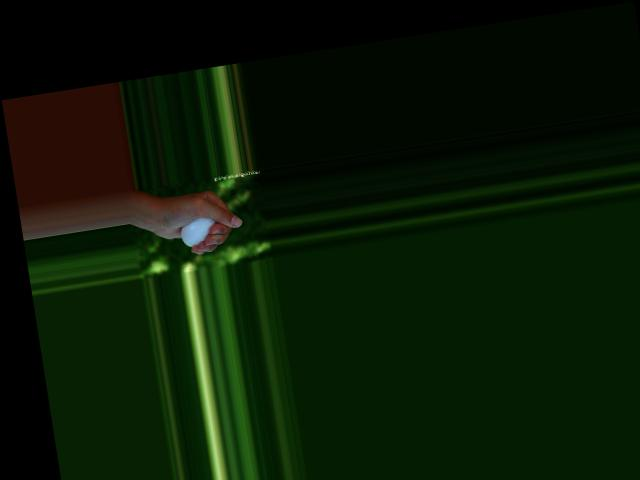egg: (179, 216, 219, 247)
